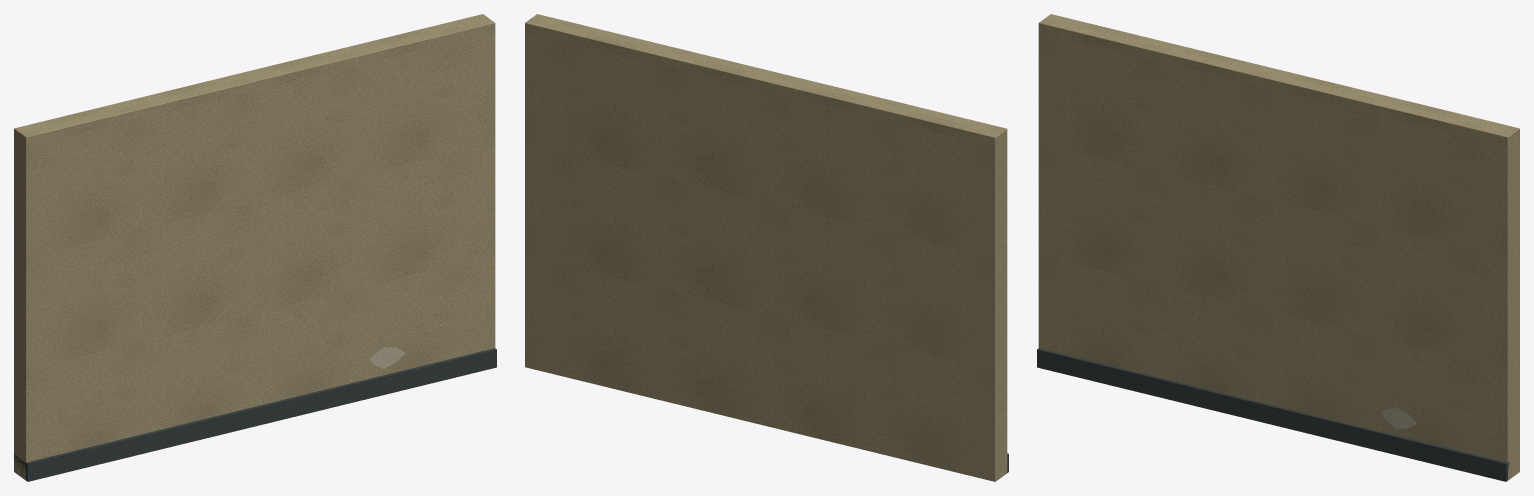
The model's file is solid_wall_4m.glb.
The picture shows the model from 3 angles, left to right: view 1: azimuth 30°, elevation 25°; view 2: azimuth 150°, elevation 25°; view 3: azimuth 330°, elevation 25°; orthographic projection.
Visible parts, largest first — view 1: solid_wall_4m; view 2: solid_wall_4m; view 3: solid_wall_4m.
Boxes of the visible parts, x1=… form: solid_wall_4m: x1=14, y1=14, x2=496, y2=481; solid_wall_4m: x1=525, y1=14, x2=1008, y2=481; solid_wall_4m: x1=1037, y1=14, x2=1519, y2=481.
Size of the model in its own units: 4 by 2.8 by 0.203.
Materials: 3 (3 with a texture image).
